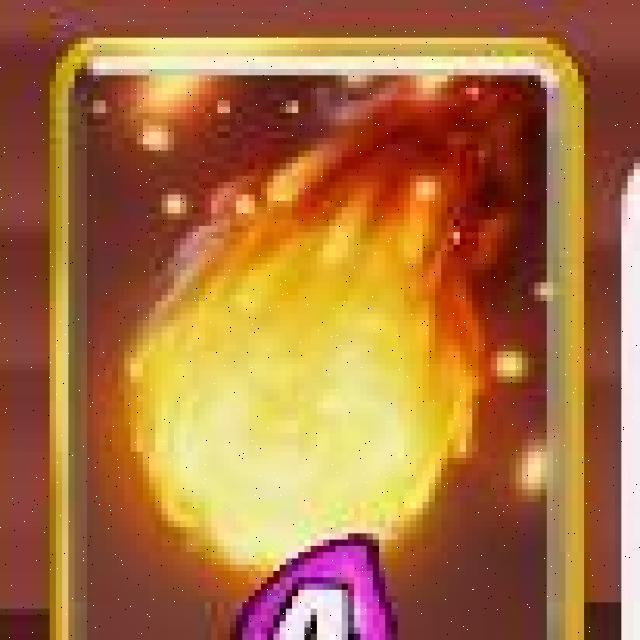Fireball: (49, 36, 582, 640)
